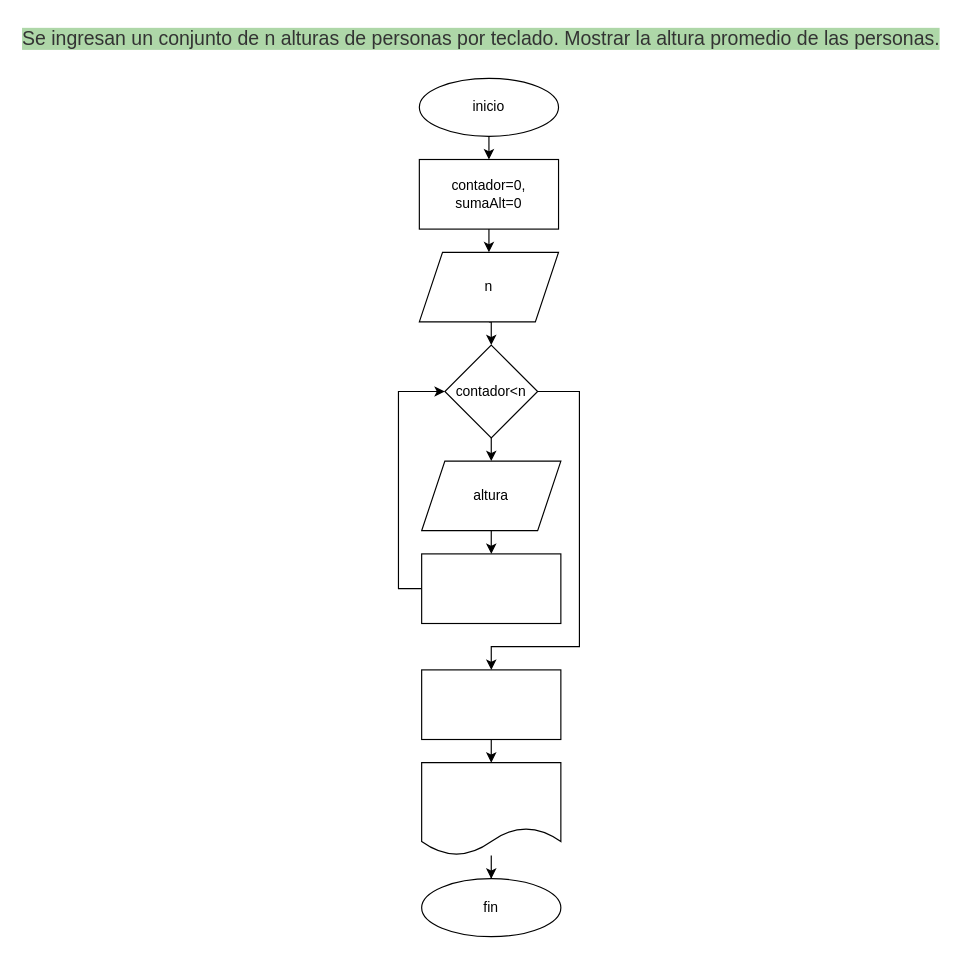
This 979x957 diagram has some shape labels left out. The shapes that lost their labels are listed below. From the top down, each one's centre as x and y in pixels, then its label:
At point (490, 588): "sumaAlt+=altura, contador+=1".
At point (490, 704): "promAltura=sumaAlt/n".
At point (490, 808): "promAltura".
